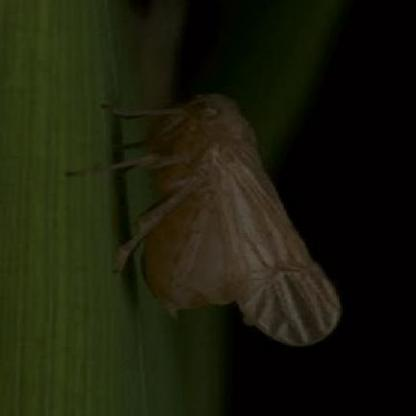brown-planthopper: (129, 89, 338, 346)
